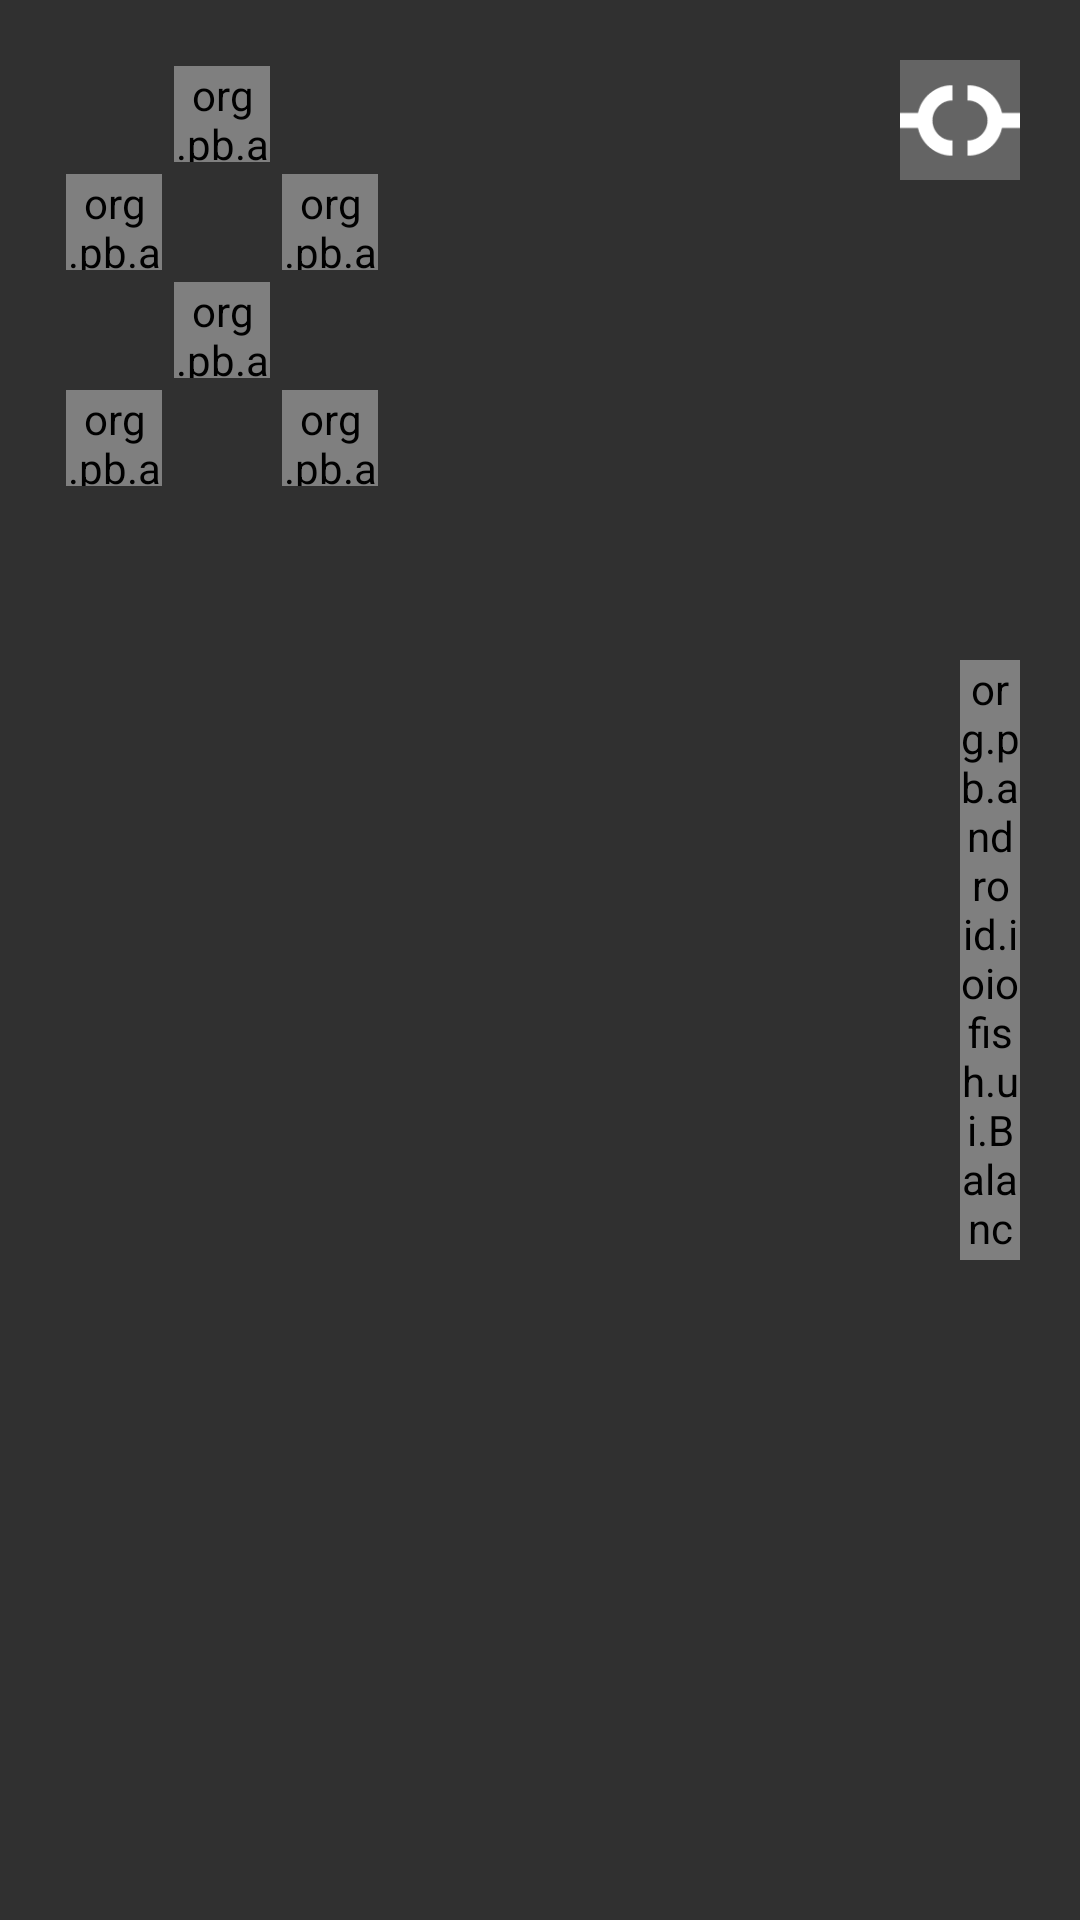

Named icons in this screenshot (1080 × 1920) and their centers, [x,y]:
unplugged: [960,120]
